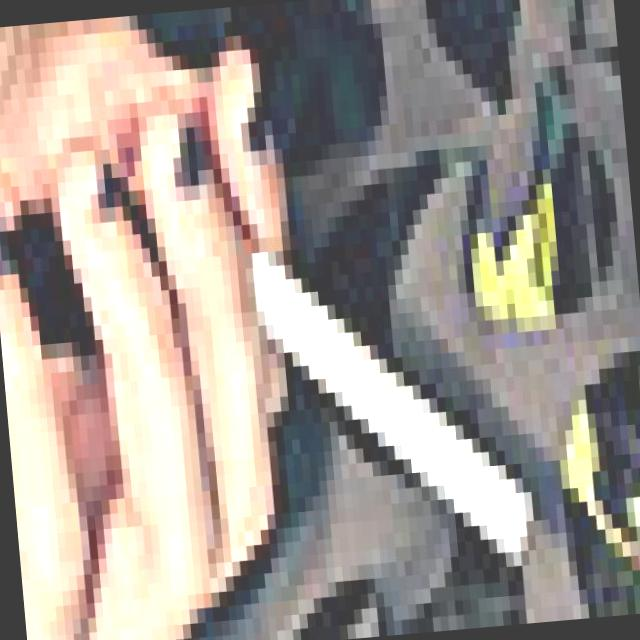cigarette: (238, 246, 540, 616)
